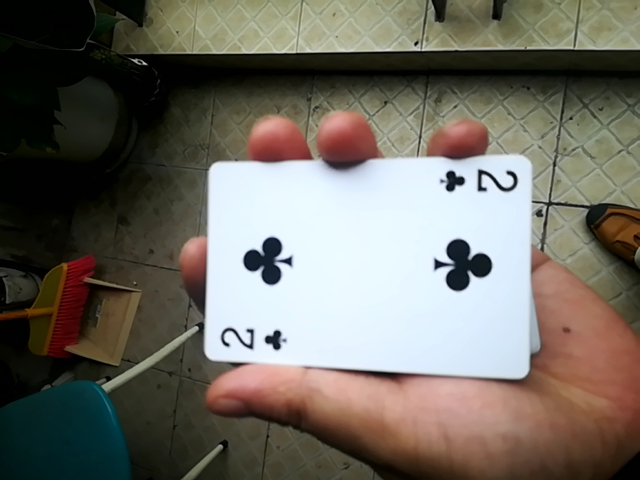mh 2: (205, 157, 533, 384)
